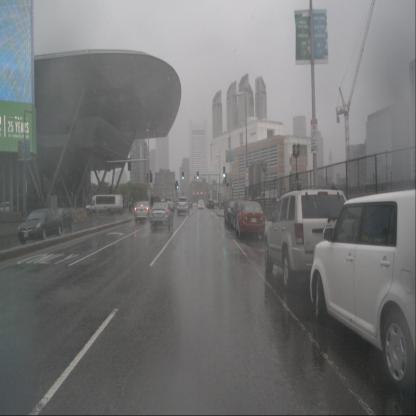vehicle-bus-rigid: (86, 194, 124, 216)
vehicle-car: (310, 188, 415, 397), (264, 187, 356, 291), (18, 208, 63, 245), (235, 200, 265, 240), (229, 201, 254, 232), (149, 202, 174, 231), (50, 207, 73, 232), (224, 200, 243, 226), (134, 201, 154, 223), (254, 190, 277, 208), (177, 196, 190, 216), (0, 202, 16, 217), (147, 197, 161, 212), (164, 197, 175, 214), (197, 199, 205, 209), (209, 200, 214, 209)
